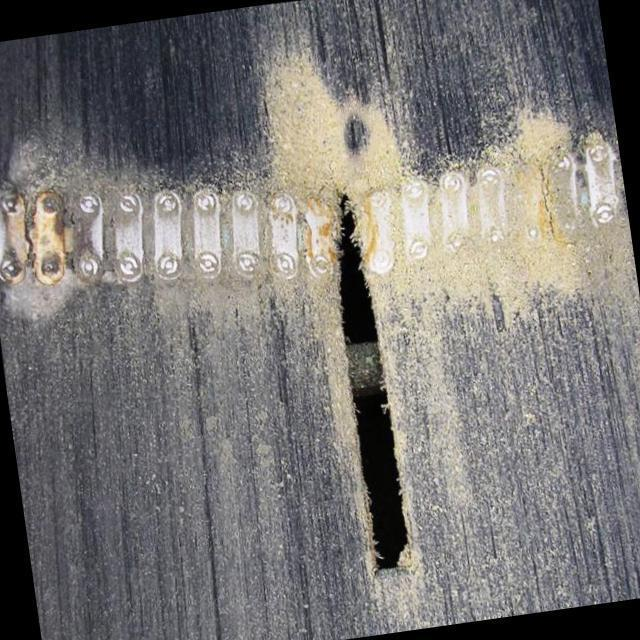Tear: (328, 184, 418, 582)
